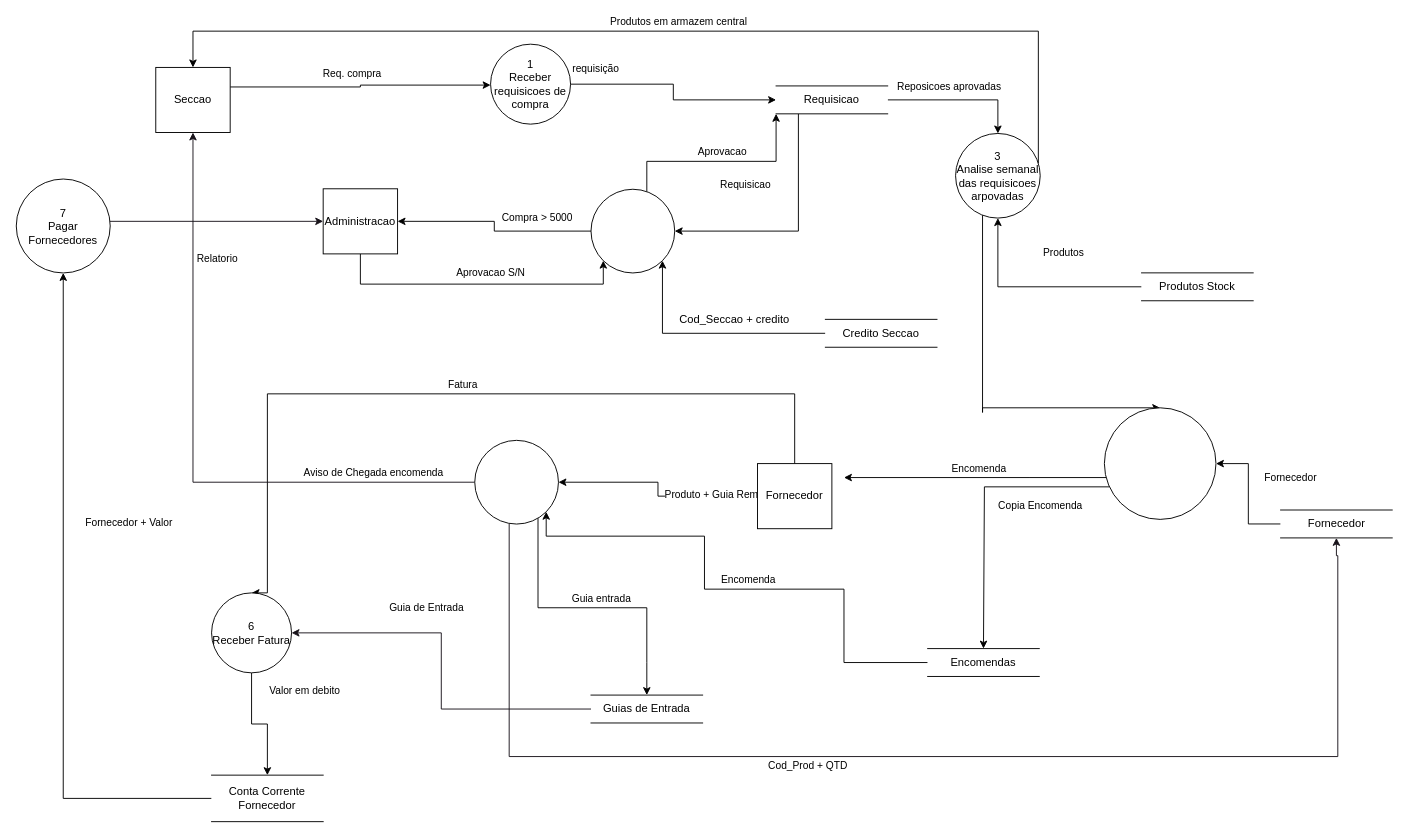
Image size: 1409x838. Some labels were removed from this diagram. The shapes that lost their labels are listed below. From the top down, each one's centre as x and y in pixels, then its label:
At point (632, 230): "2 Tratar requisicao compra".
At point (516, 481): "5 Receber Mercadoria".
At point (1159, 463): "4 Encomedar Produtos".
